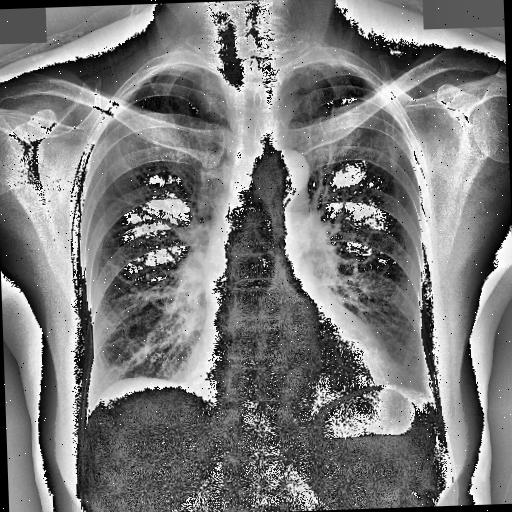0- Aortic enlargement: (254, 149, 308, 221), (256, 146, 310, 206), (254, 150, 309, 208)
3- Cardiomegaly: (182, 332, 400, 430), (183, 337, 400, 407)
